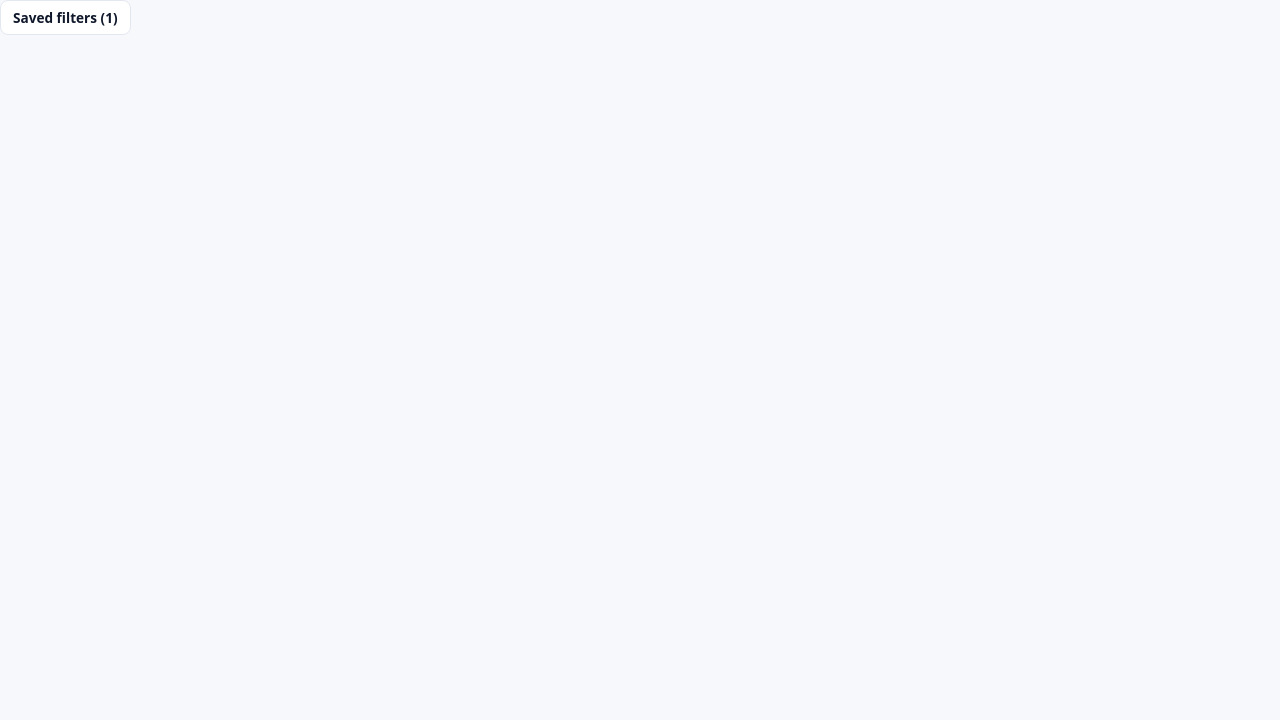
Scenario: FilterPresets › announces duplicate names and leaves the existing preset unchanged
Click the button "Saved filters (1)" at {"x": 65, "y": 18}, box [0,0,131,35]
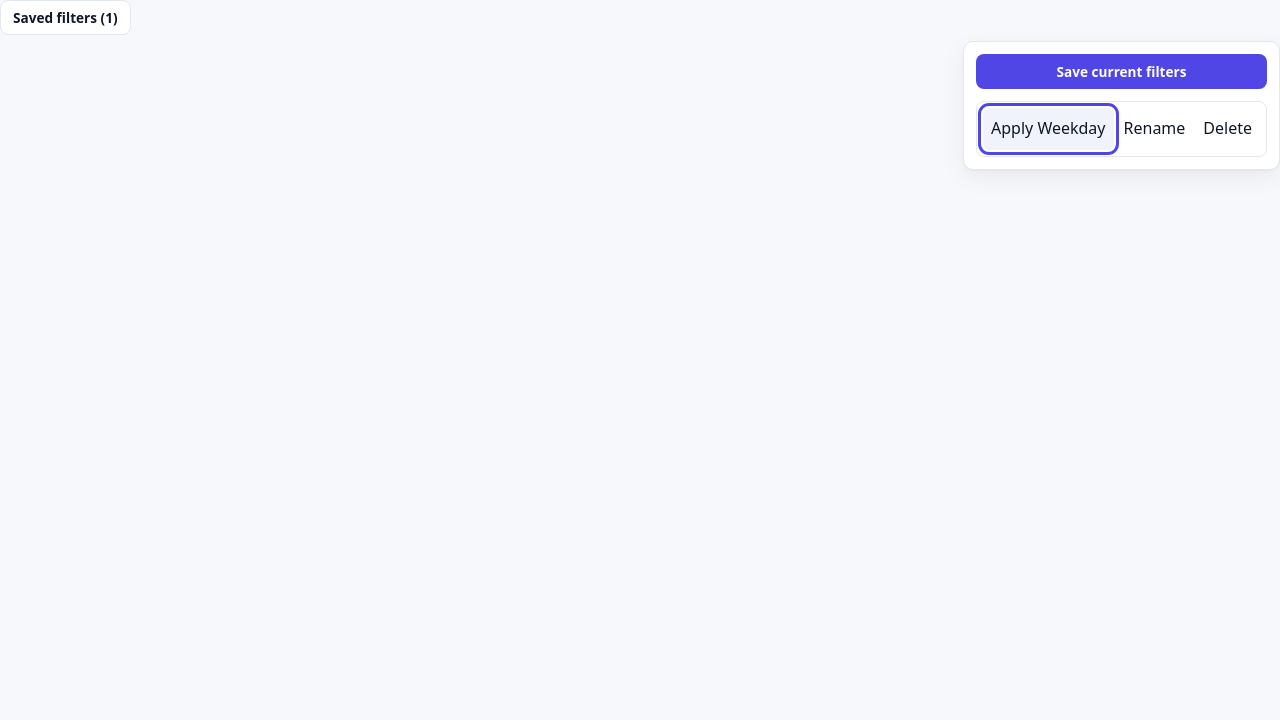
Click the button "Save current filters" at {"x": 1122, "y": 72}, box [976,54,1267,89]
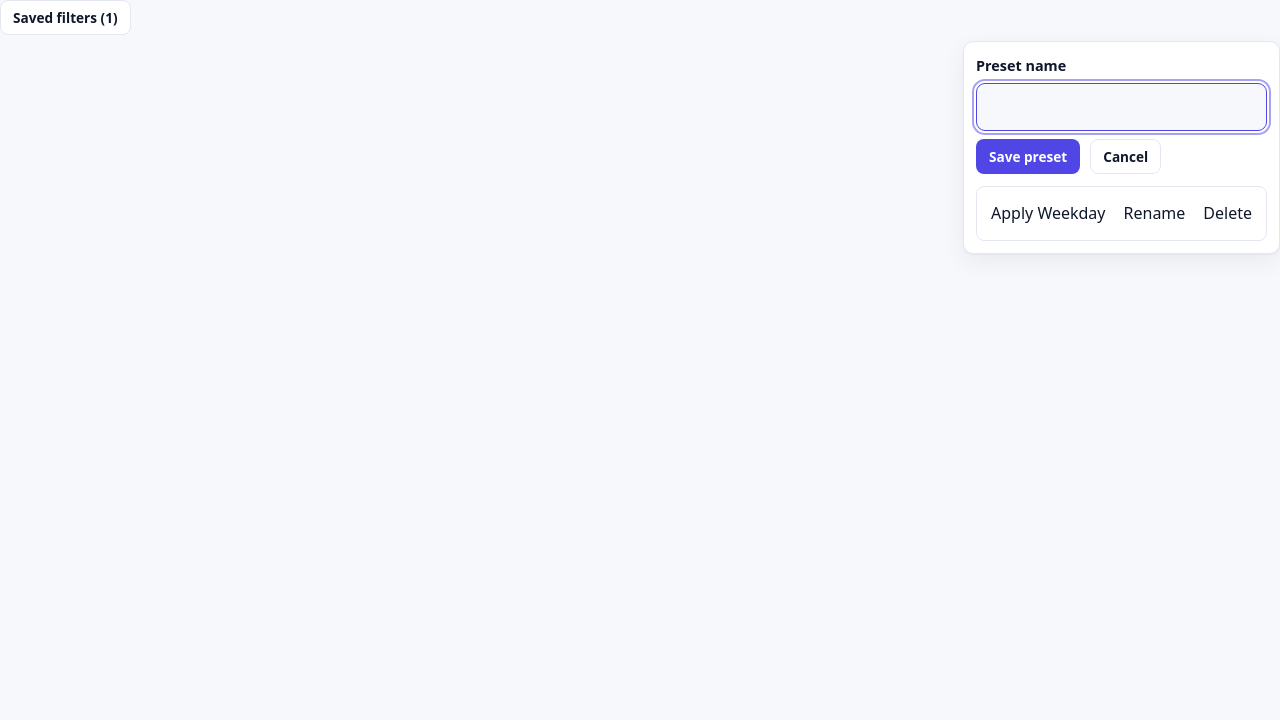
Type " weekday " into the field labelled "Preset name" at {"x": 1122, "y": 107}, box [976,83,1267,131]
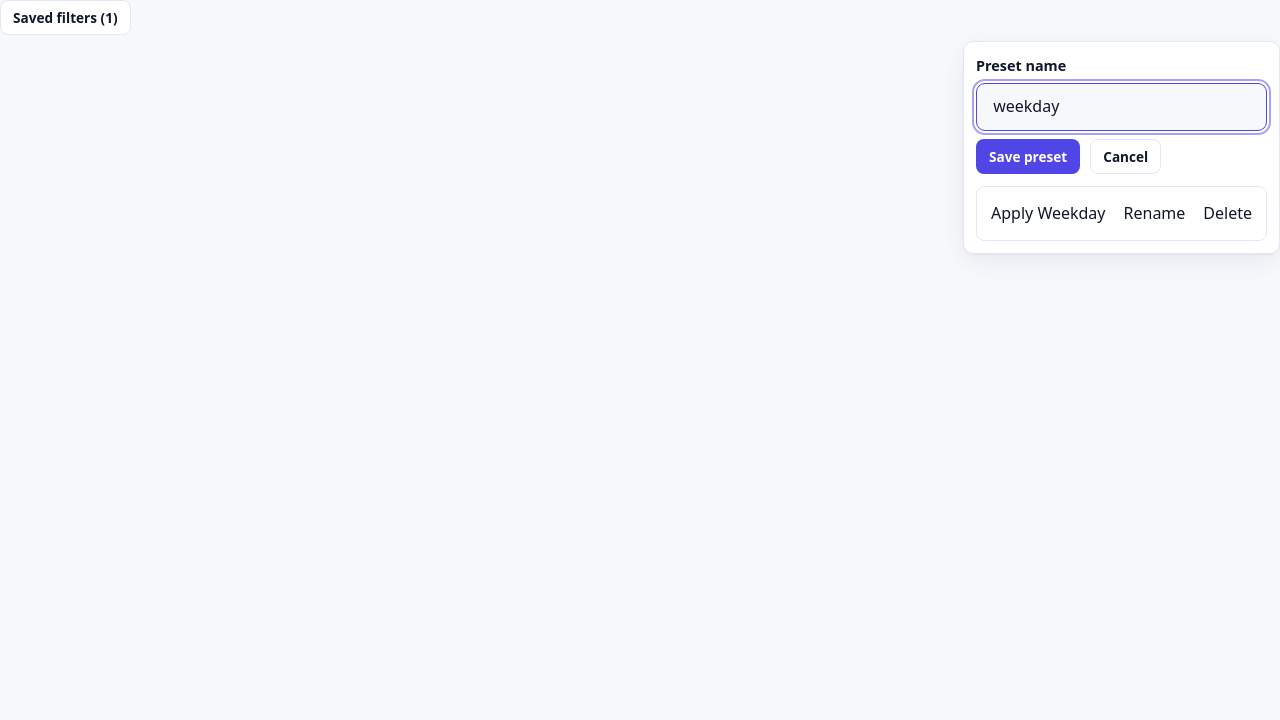
Click the button "Save preset" at {"x": 1028, "y": 156}, box [976,139,1080,174]
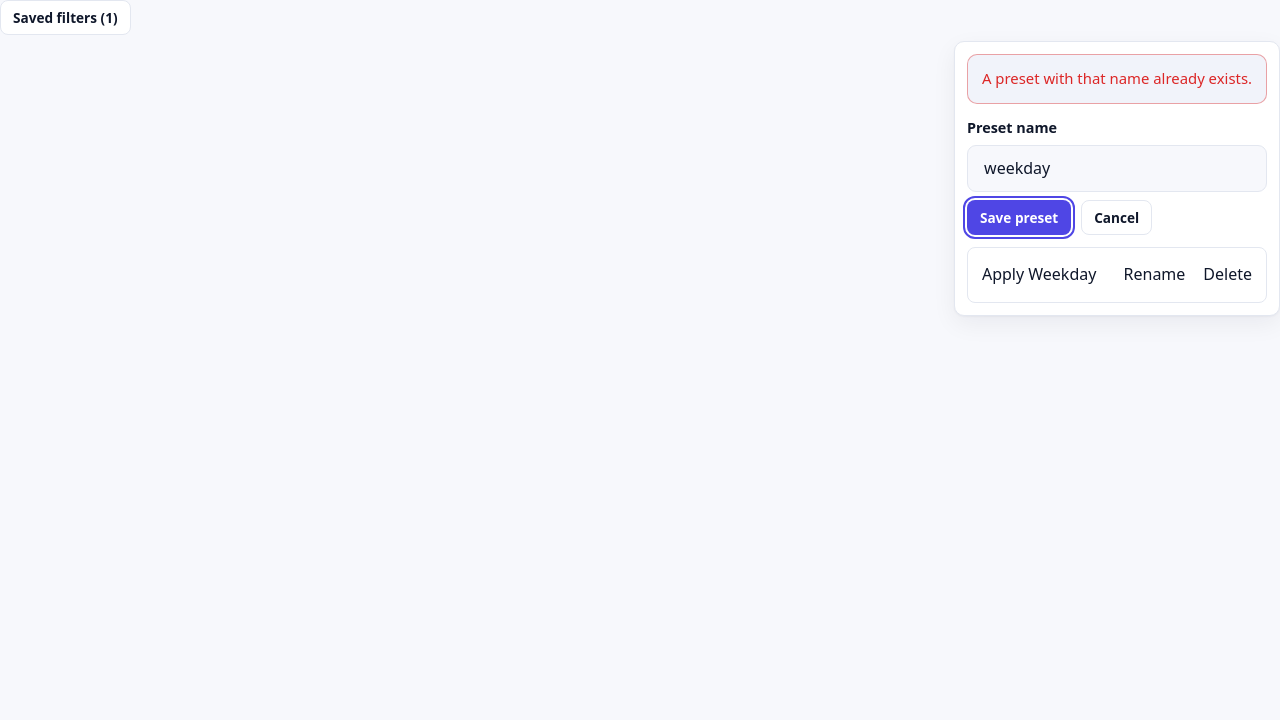
Expected: the message shows "already exists", [982,68,1252,88]
